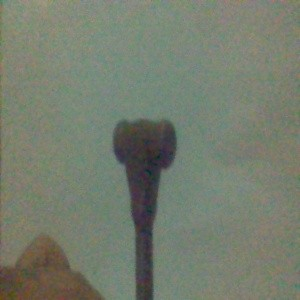palu: (111, 116, 177, 300)
